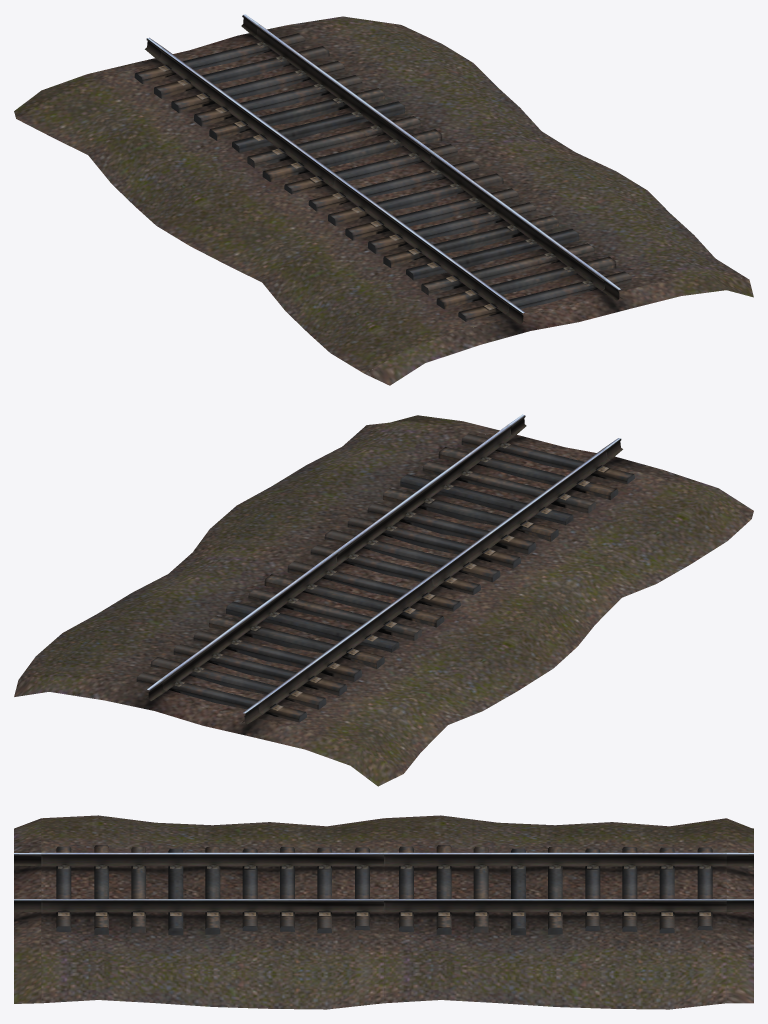
Rendered from 1track_10_der_TSM.gltf.
3 renders of one model, top to bottom at view 1: azimuth 30°, elevation 25°; view 2: azimuth 150°, elevation 25°; view 3: azimuth 270°, elevation 25°, orthographic.
Bounding box in the file's own units: 6.7 × 0.6438 × 10.8.
Materials: 1 (1 with a texture image).
